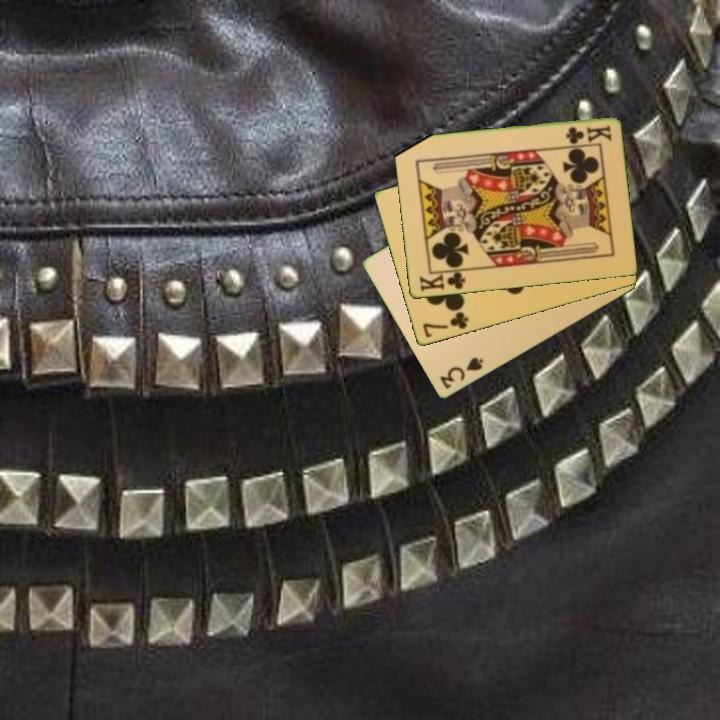3s: (436, 354, 486, 392)
7c: (419, 308, 471, 341)
Kc: (416, 267, 469, 294), (562, 122, 614, 146)
